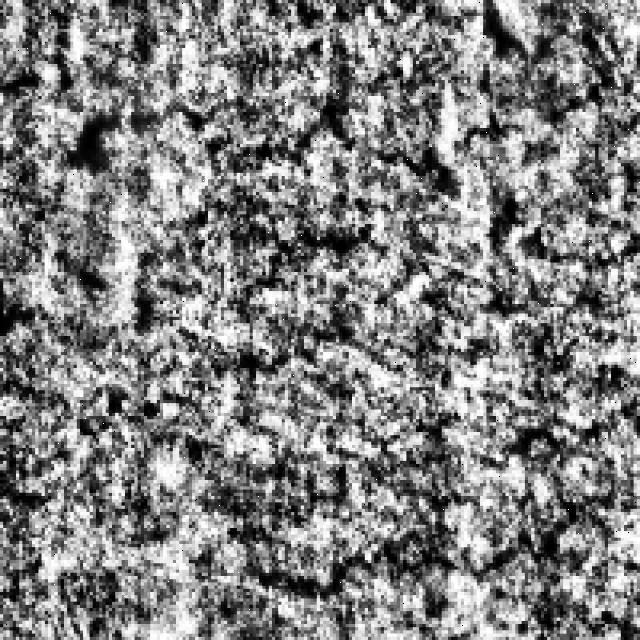Pitted_Surface: (154, 64, 640, 240), (252, 413, 586, 592), (22, 51, 224, 336)
